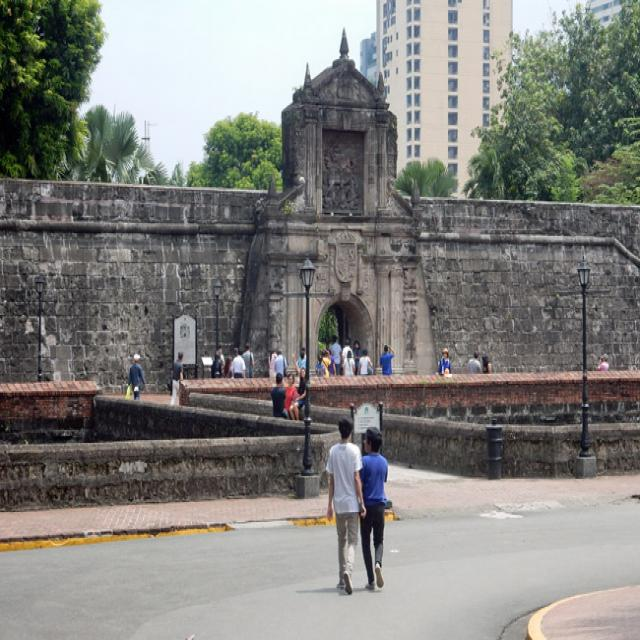Fort Santiago: (2, 30, 640, 384)
